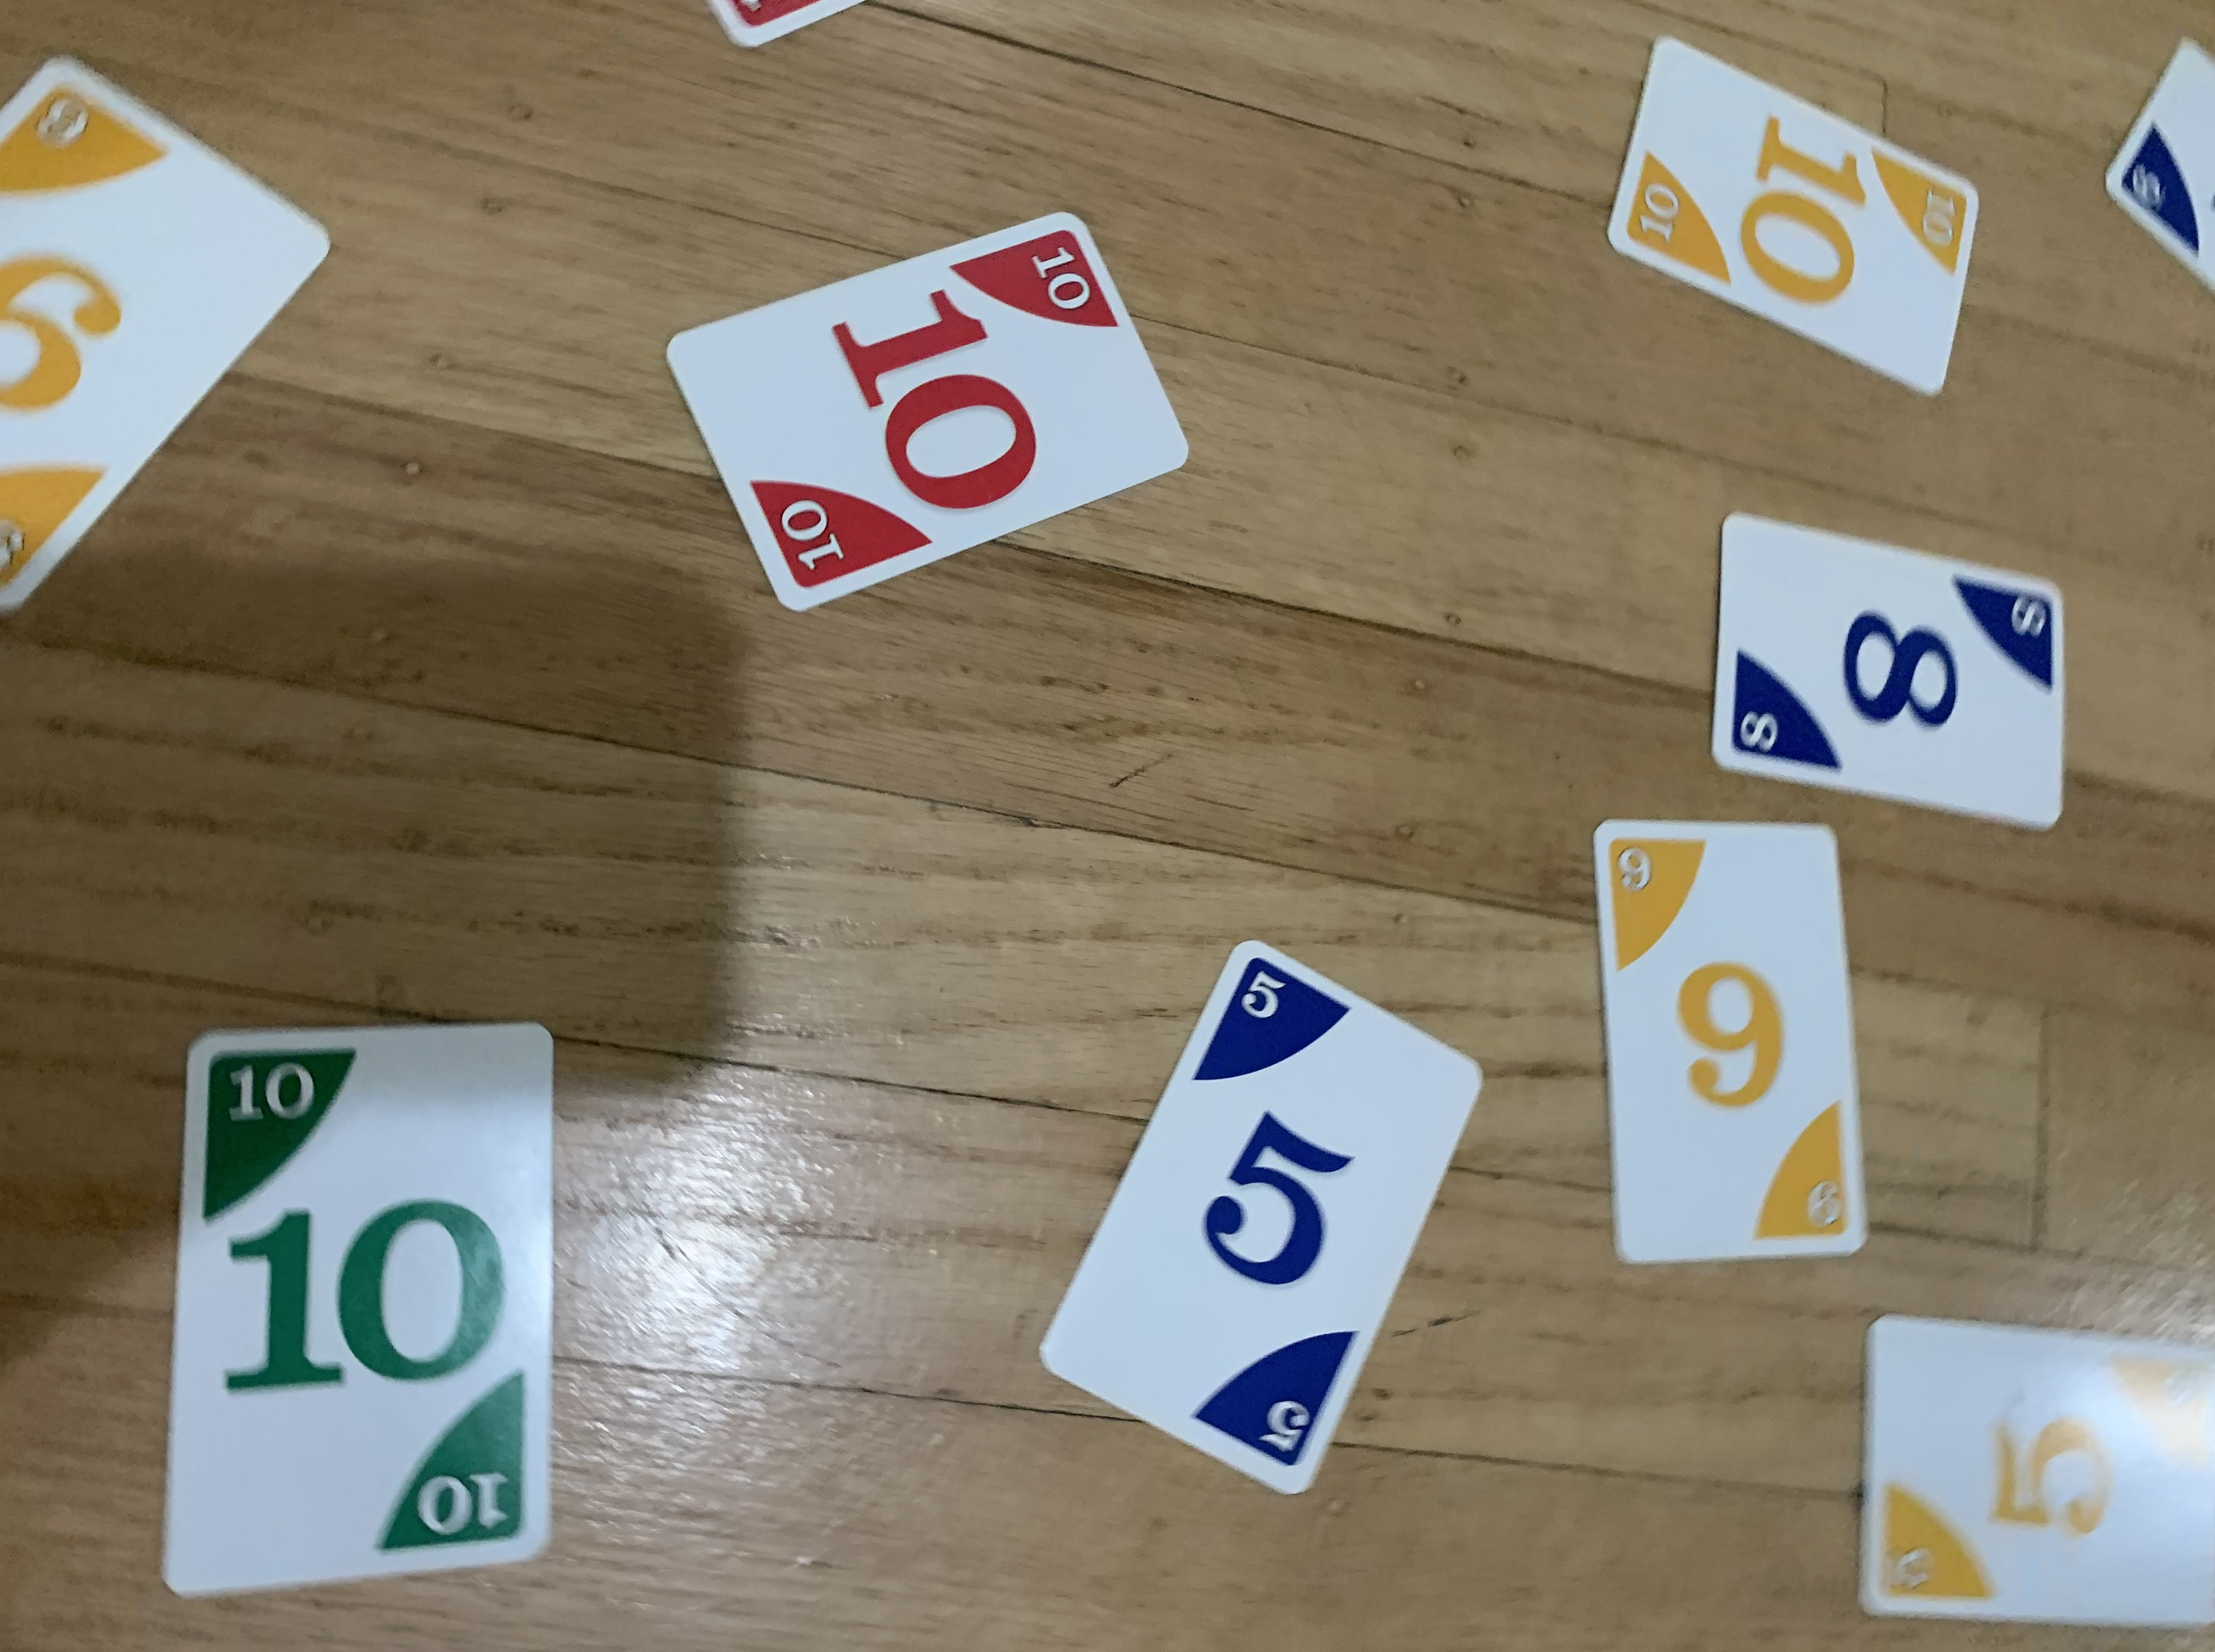eight: (1706, 496, 2069, 836)
five: (1050, 915, 1470, 1496)
nine: (1580, 805, 1877, 1272)
ten: (661, 196, 1198, 626), (165, 1022, 559, 1600), (1600, 35, 1991, 401)
